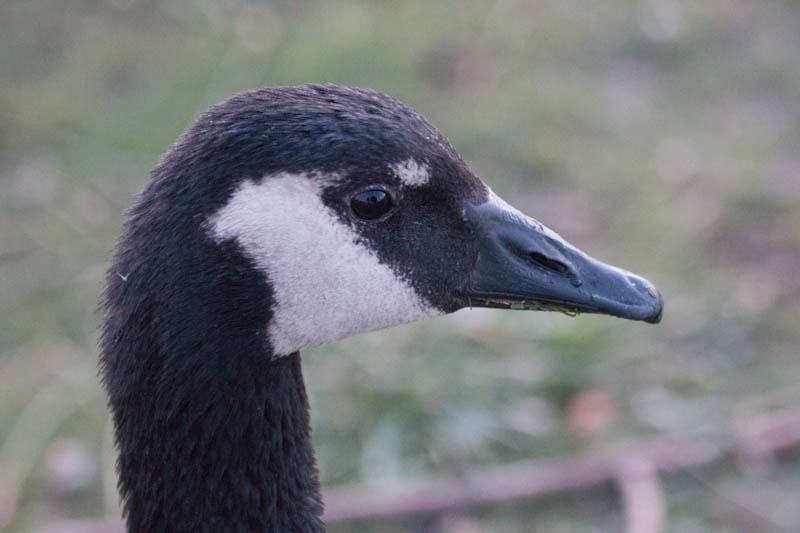goose-head: (105, 82, 663, 361)
